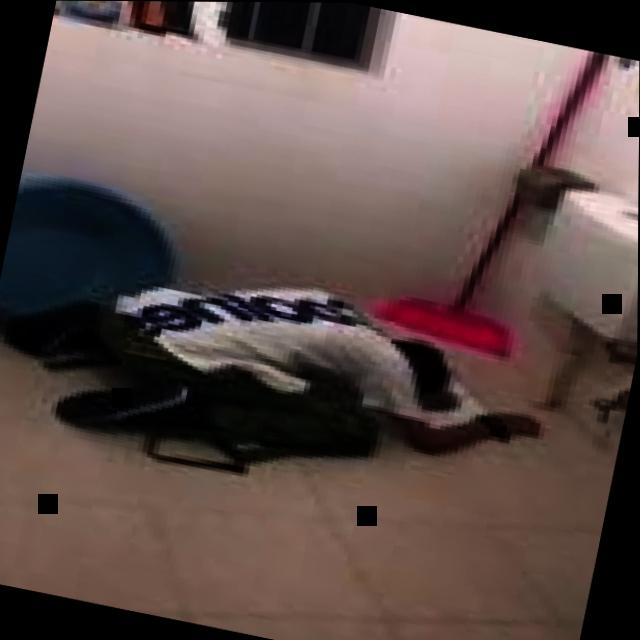Fall-Detected: (26, 231, 545, 523)
